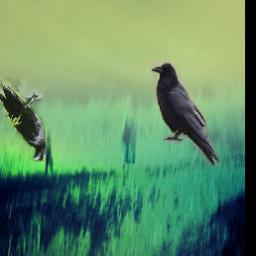Crow: (150, 62, 219, 167), (0, 78, 47, 163)
